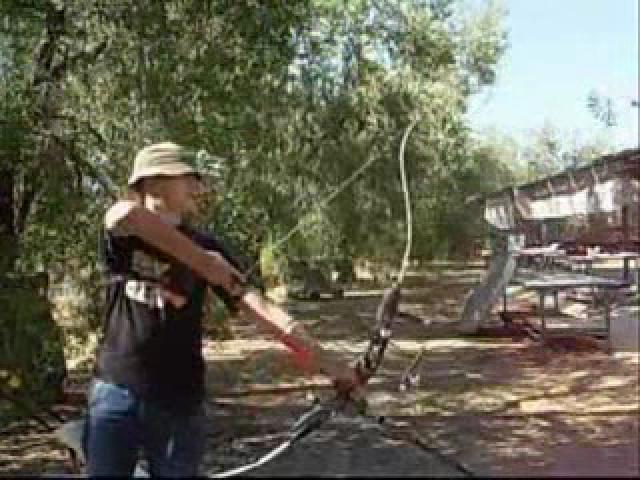I: (88, 130, 378, 480)
